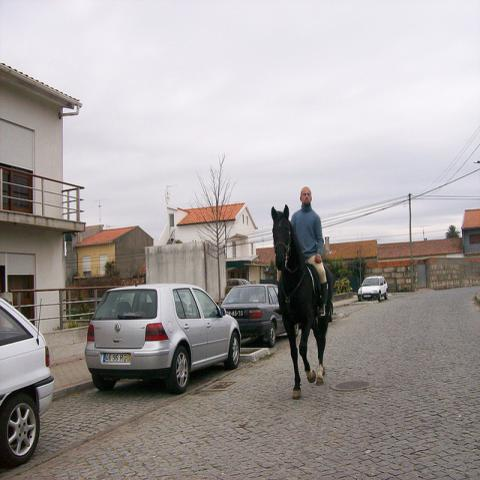car: (83, 282, 245, 397), (1, 298, 52, 460), (221, 283, 299, 347), (358, 276, 388, 300), (227, 279, 251, 286)
